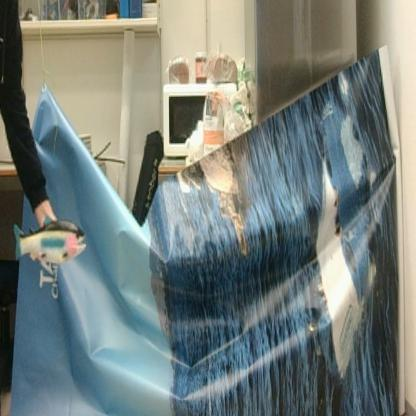rubberfish: (13, 216, 86, 264)
